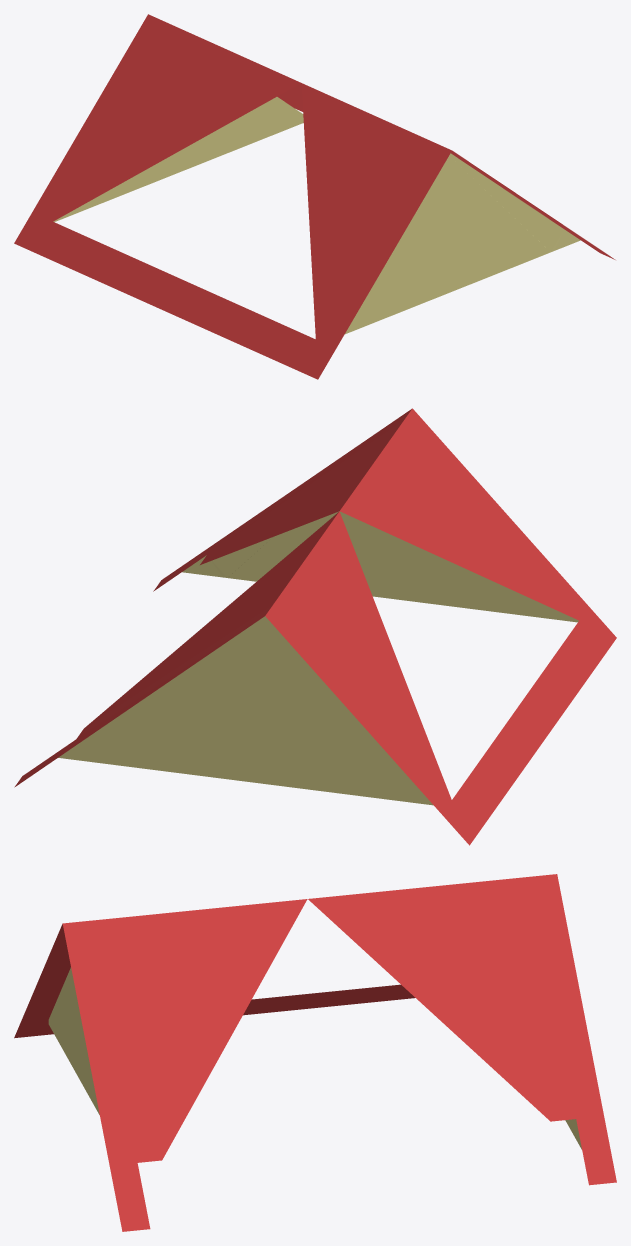
The picture shows the model from 3 angles, top to bottom: view 1: azimuth 30°, elevation 25°; view 2: azimuth 150°, elevation 25°; view 3: azimuth 270°, elevation 25°; orthographic projection. The views are drawn at different scales.
Bounding box in the file's own units: 15 × 15.72 × 5.8.
